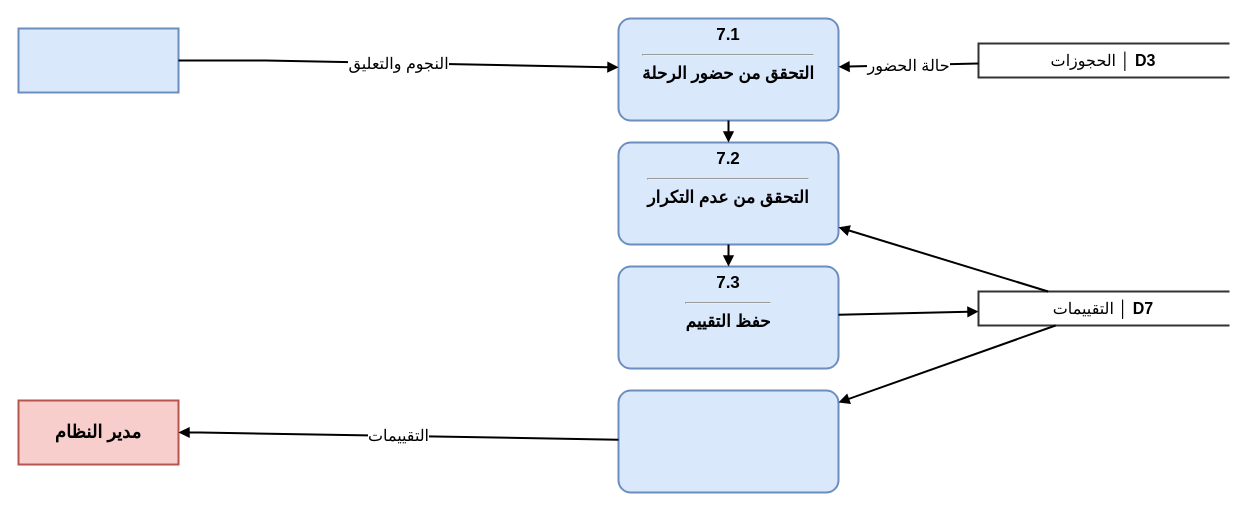
The diagram is 1246 pixels wide and 510 high, and some of its shapes have lost their labels. Here are the shapes that lost their labels. From the top down, the centre of each, then its label:
At (98,60): "السائح".
At (728,441): "7.4 عرض التقييمات".
